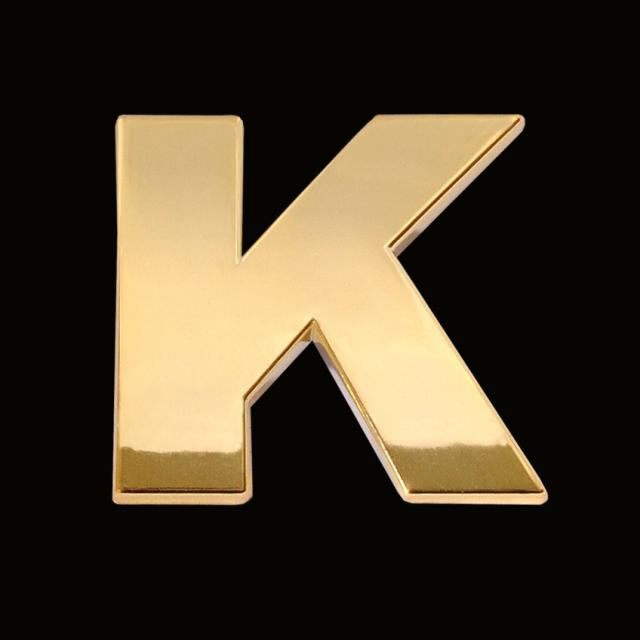K: (76, 63, 580, 547)
